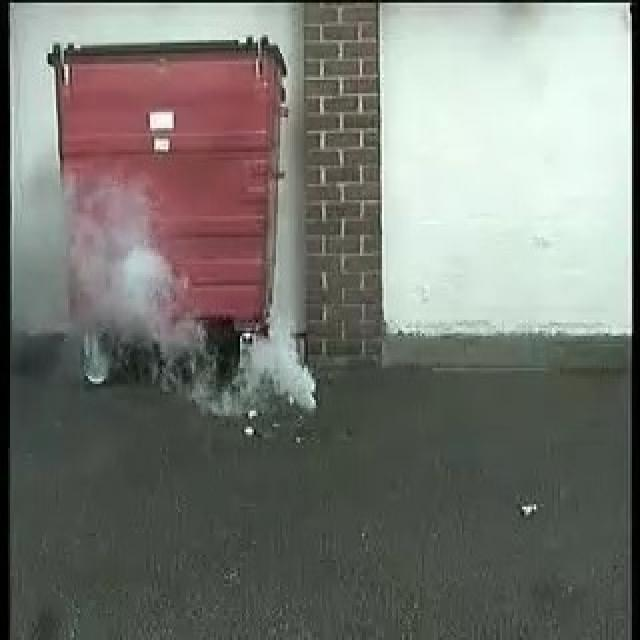smoke: (45, 188, 318, 414)
